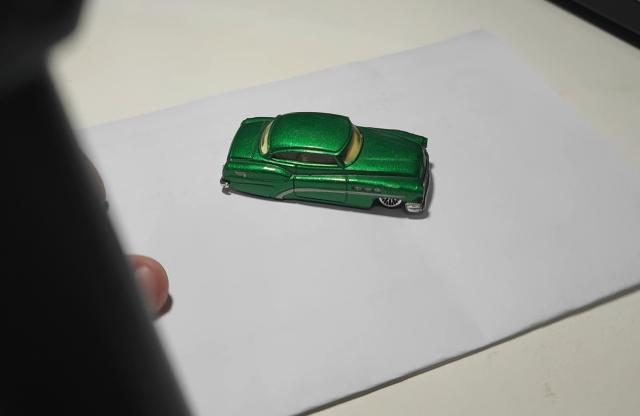06_MASERATI: (220, 113, 434, 221)
